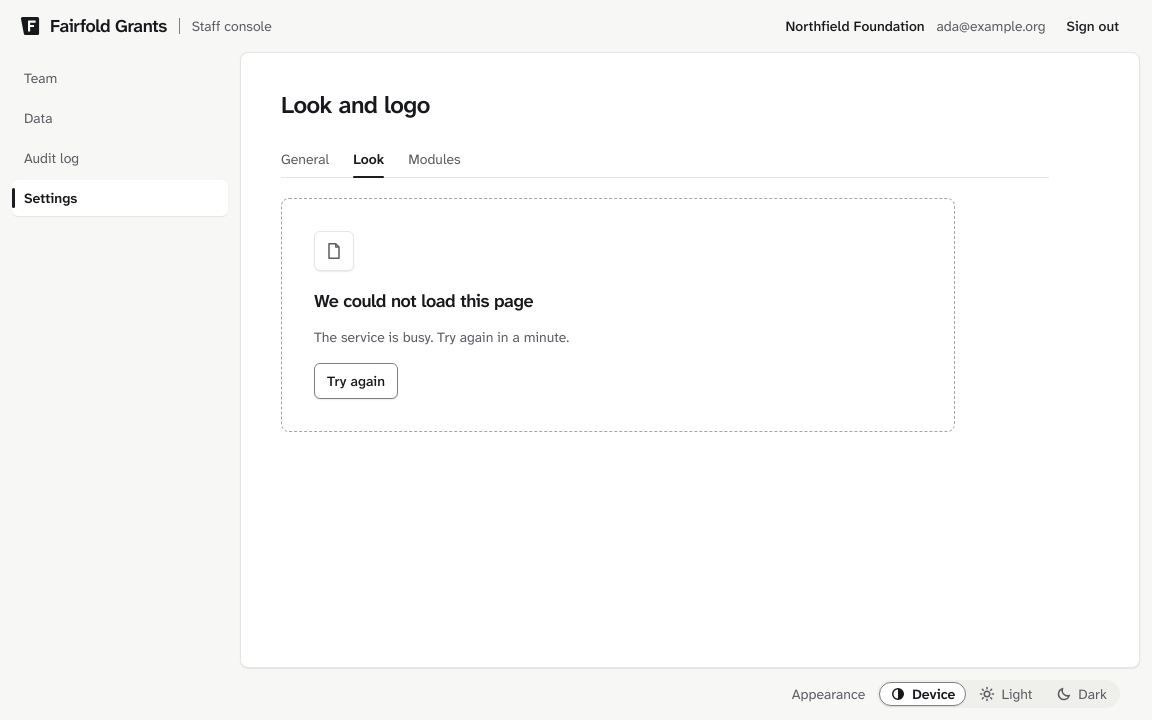
Scenario: the look page › shows that it is loading, then says what went wrong and tries again
Check: the heading "We could not load this page" is shown, box [314,287,533,315]
Check: the text "The service is busy. Try again in a minute." is shown, box [314,327,569,347]
Click the button "Try again" at (356, 381), box [314,363,398,399]
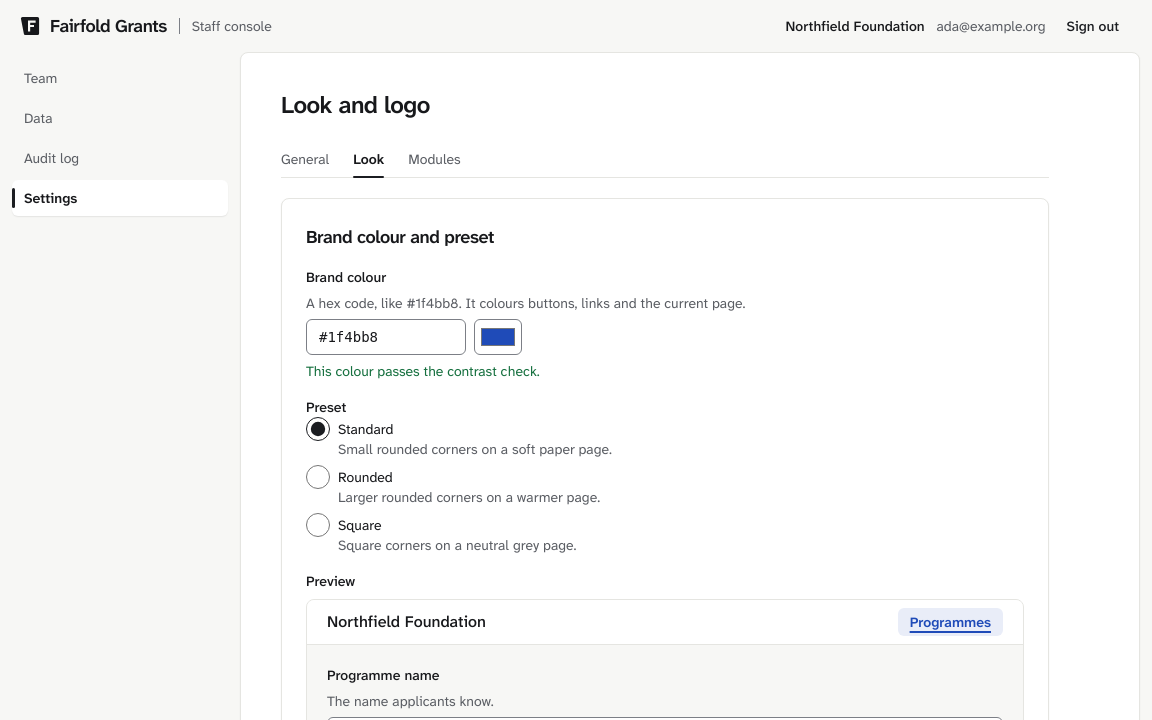
Check: the field labelled "Brand colour" is shown, box [306,319,466,355]
